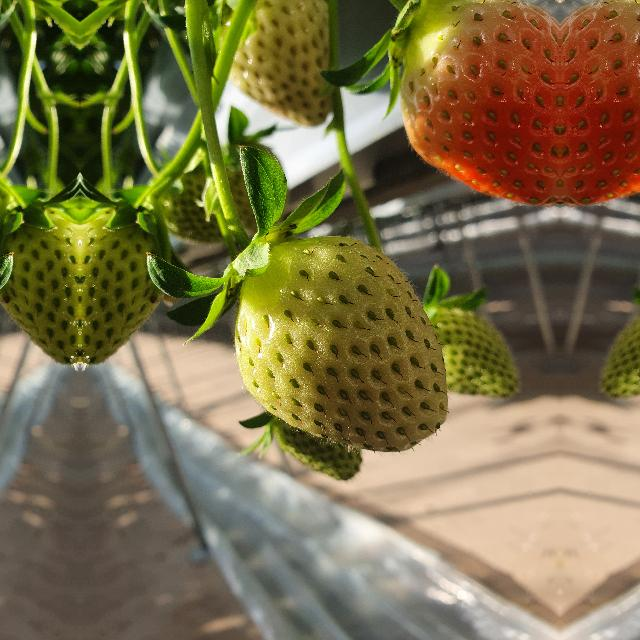Health_25: (235, 236, 448, 452)
